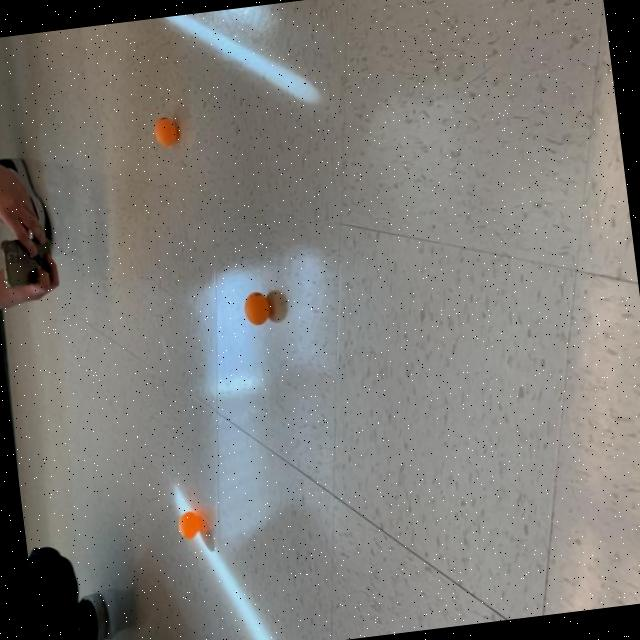ping-pong-ball: (234, 288, 276, 330), (144, 112, 182, 150), (171, 508, 205, 544)
